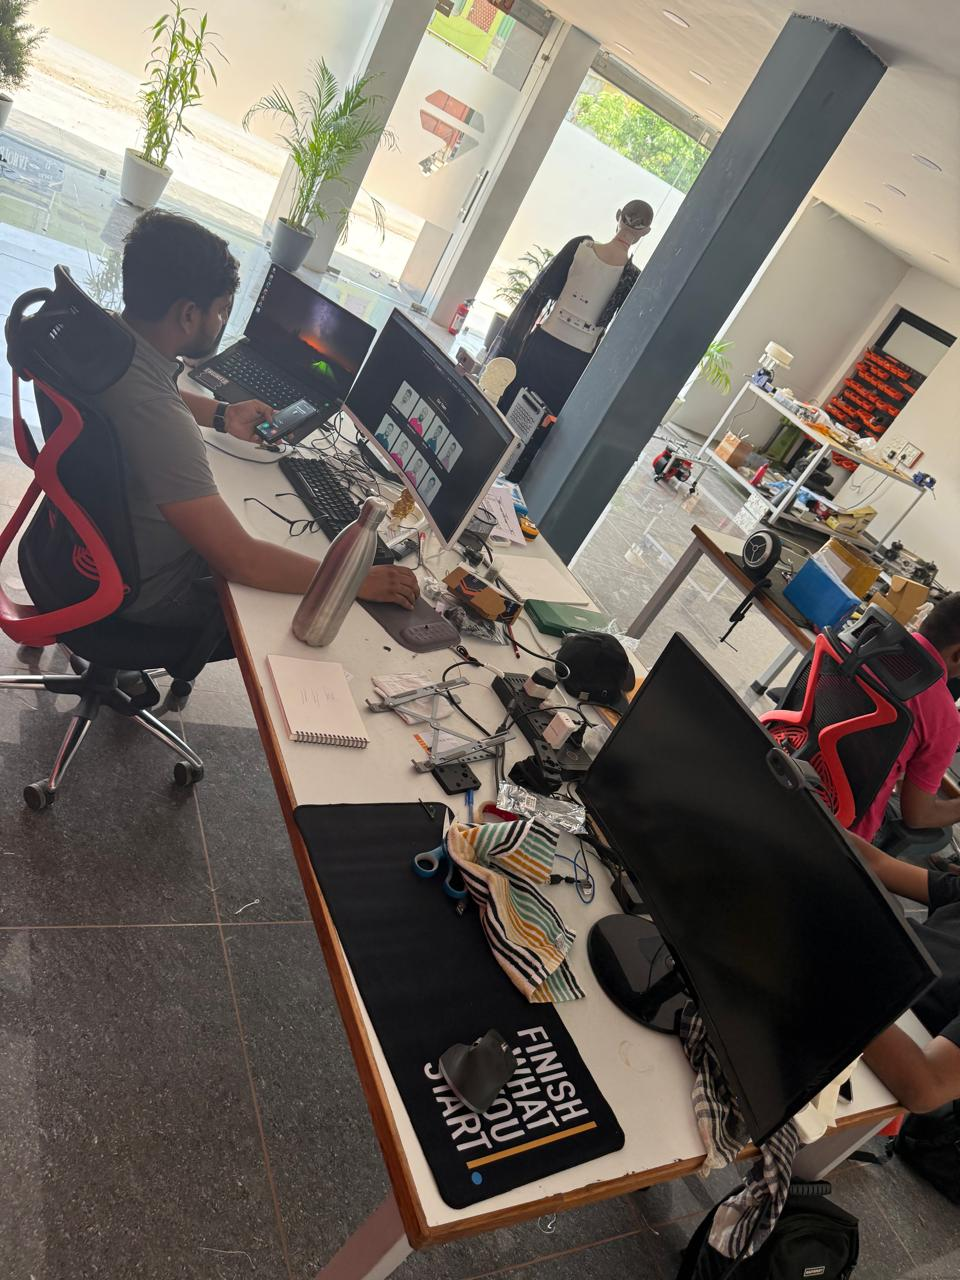bottle_on_table: (282, 483, 394, 687)
